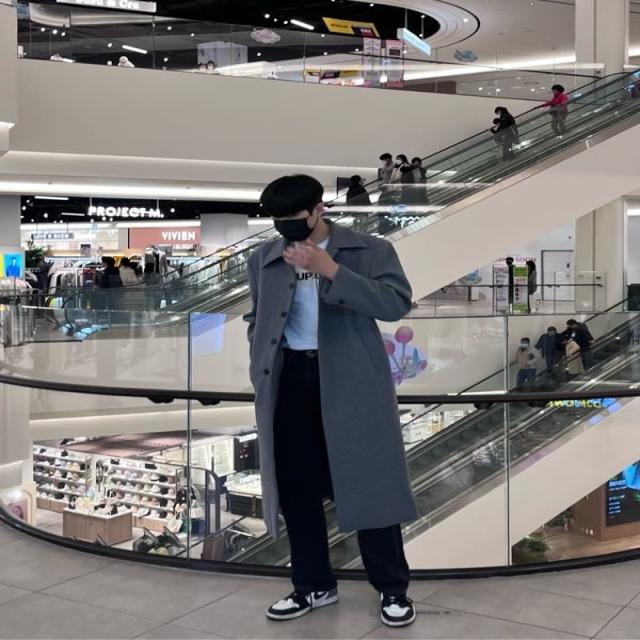coat: (243, 223, 413, 542)
denimpants: (273, 347, 411, 597)
